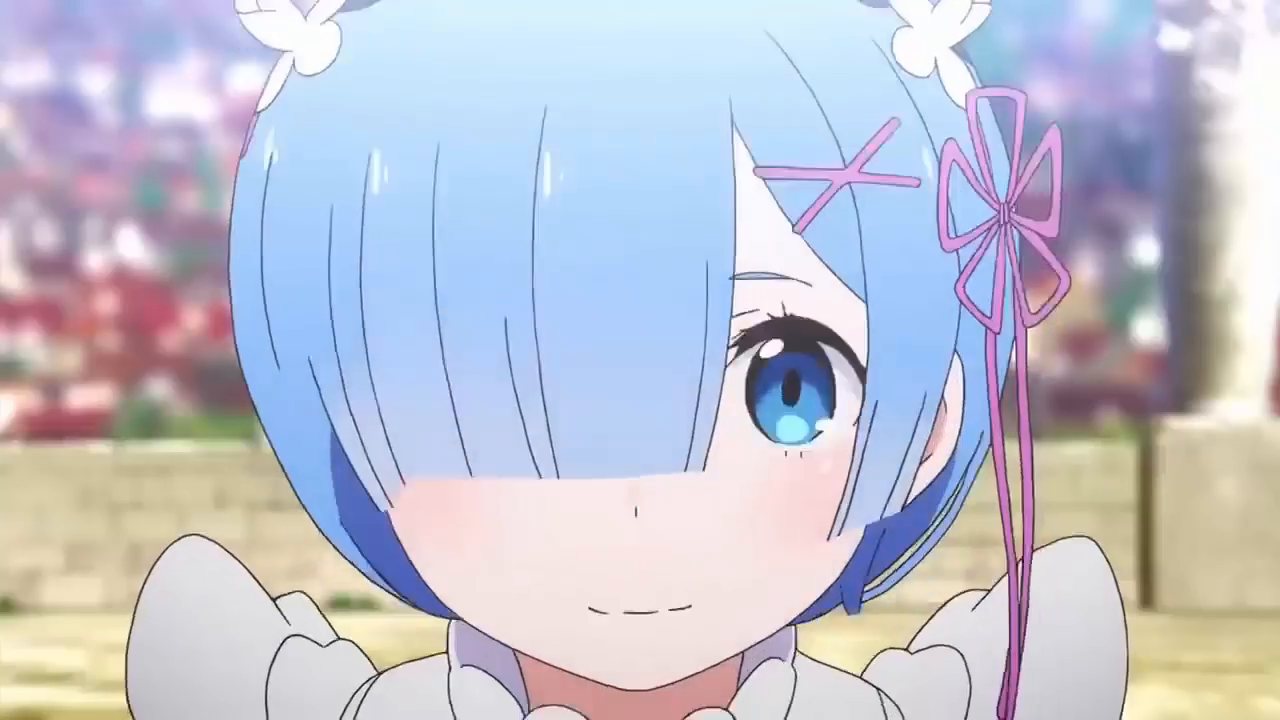REM: (218, 4, 1028, 695)
